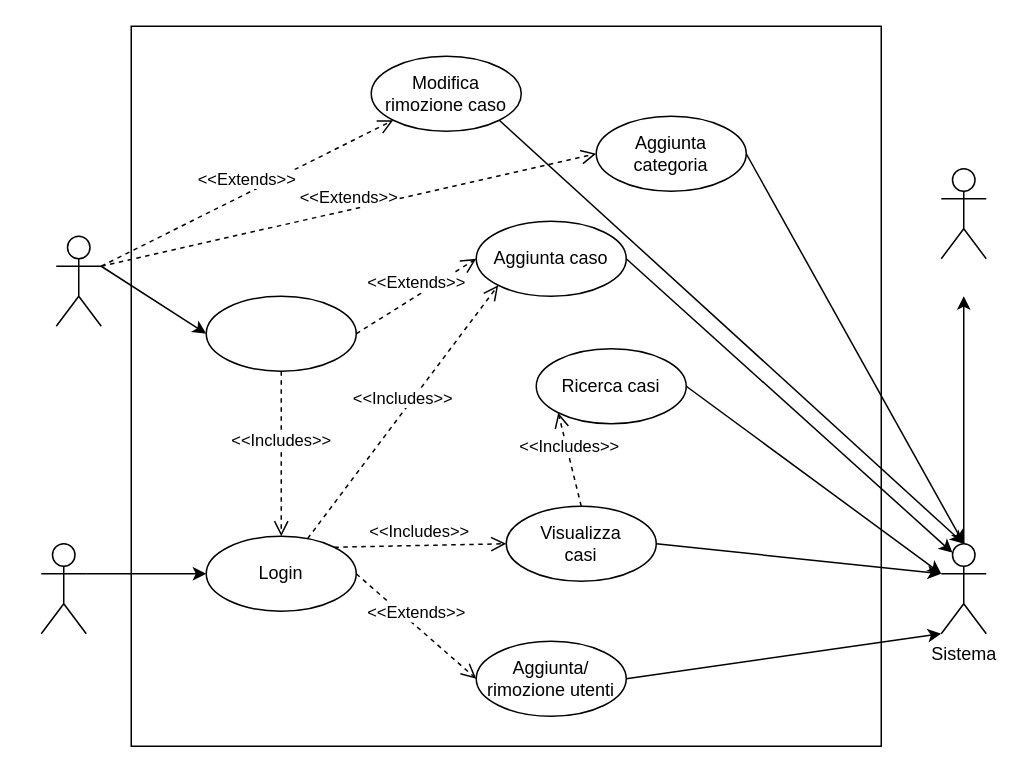
The diagram is 1028 pixels wide and 773 high, and some of its shapes have lost their labels. The centre of each missing label's shape, as x and y in pixels:
Admin: [78,280]
Admin login: [280,333]
Database: [963,213]
Operatori: [63,588]
